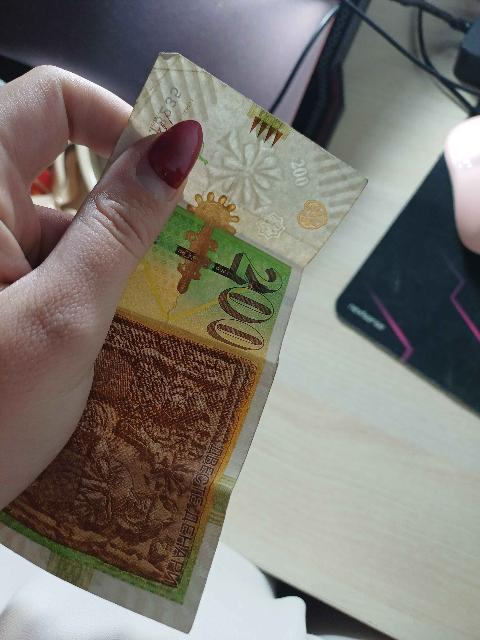note: (0, 55, 365, 631)
